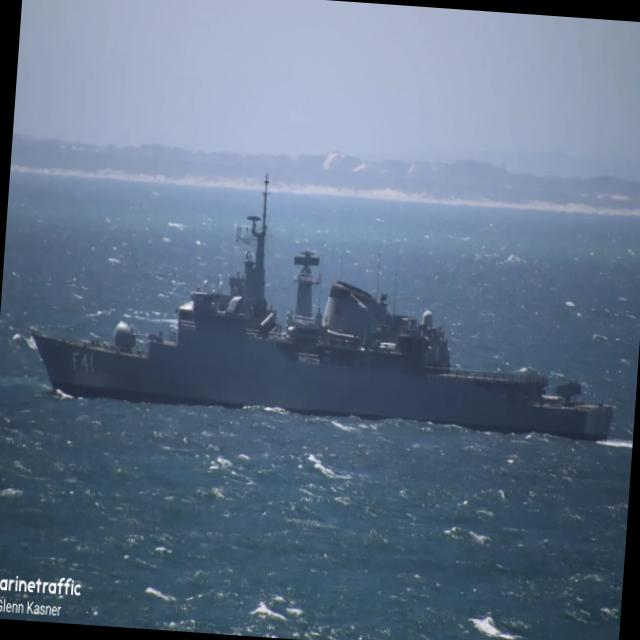Military: (31, 177, 613, 441)
